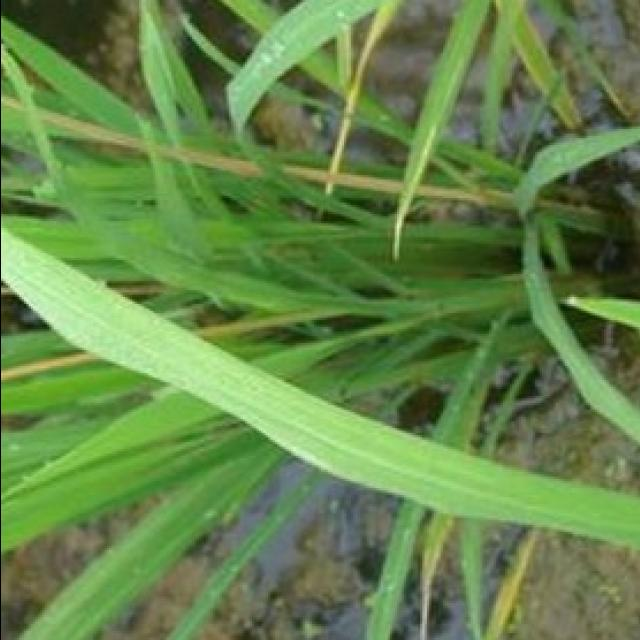rice leaf roller: (322, 10, 358, 28)
